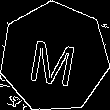M_N: (28, 28, 81, 86)
